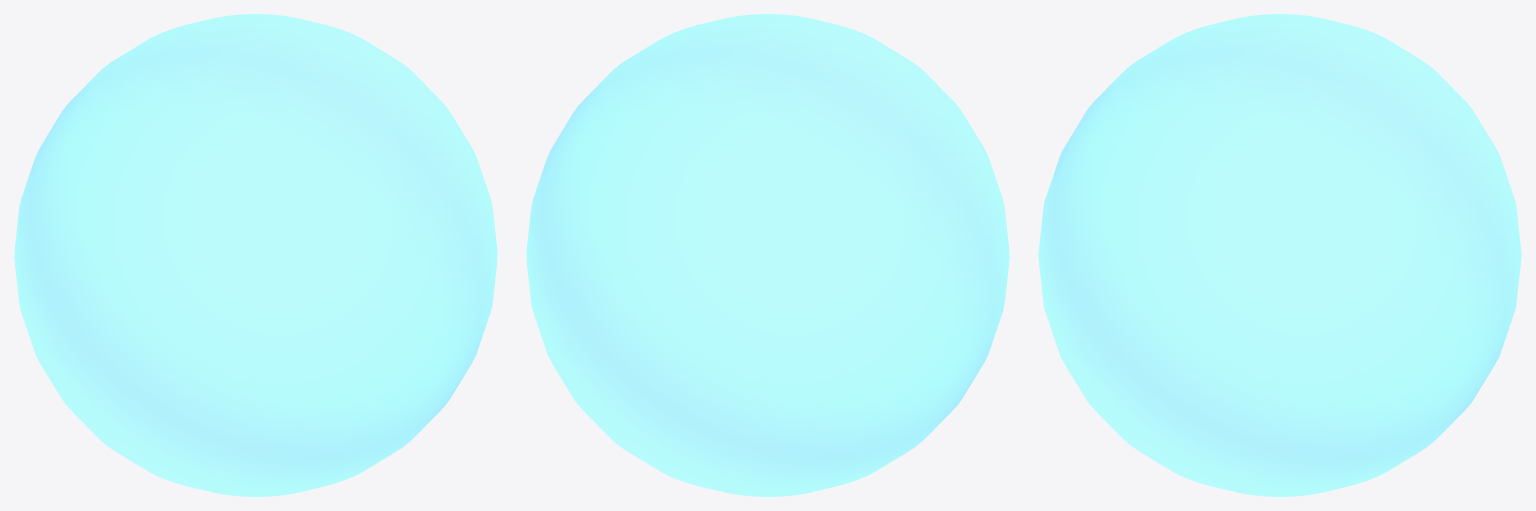
File: Plazma.fbx
3 views of the same model, side by side, from view 1: azimuth 30°, elevation 25°; view 2: azimuth 150°, elevation 25°; view 3: azimuth 270°, elevation 25° (orthographic).
Parts seen in each view (by area): view 1: Sphere; view 2: Sphere; view 3: Sphere.
Boxes of the visible parts, x1,y1,x2,y2 form: Sphere: (14, 14, 497, 496); Sphere: (526, 14, 1009, 496); Sphere: (1038, 14, 1521, 496).
Size of the model in its own units: 2 by 2 by 2.
